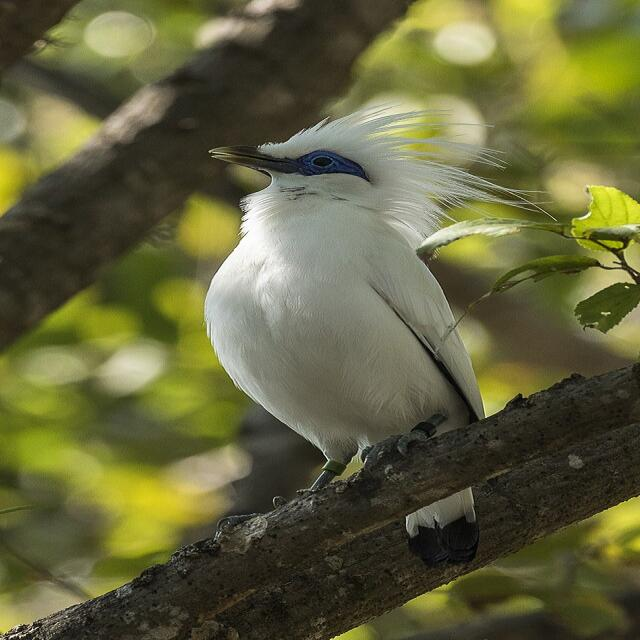Jalak Bali: (158, 94, 568, 570)
